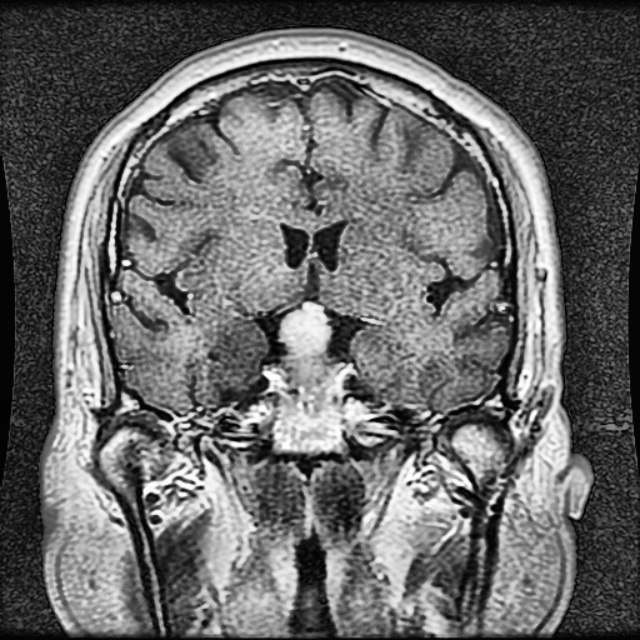Pituitary: (265, 304, 342, 450)
